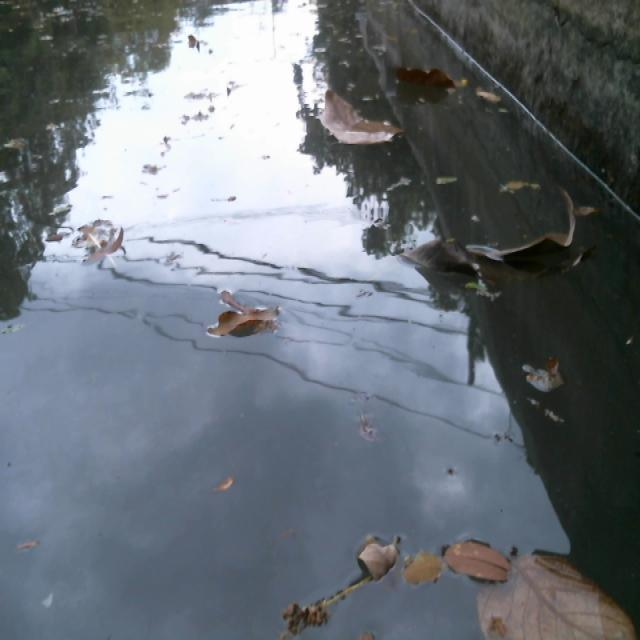Big-leaf: (478, 530, 640, 640), (283, 525, 399, 640), (469, 187, 593, 277), (317, 88, 407, 160), (208, 283, 289, 349), (398, 228, 482, 285), (392, 54, 471, 97)
Small-leaf: (447, 536, 508, 587), (78, 223, 126, 266), (403, 545, 445, 594), (353, 400, 388, 450), (525, 360, 564, 392), (14, 531, 46, 557), (214, 468, 241, 495), (185, 30, 212, 55), (475, 87, 503, 111), (0, 135, 35, 154), (433, 170, 459, 189), (42, 227, 68, 246), (139, 163, 170, 176)
